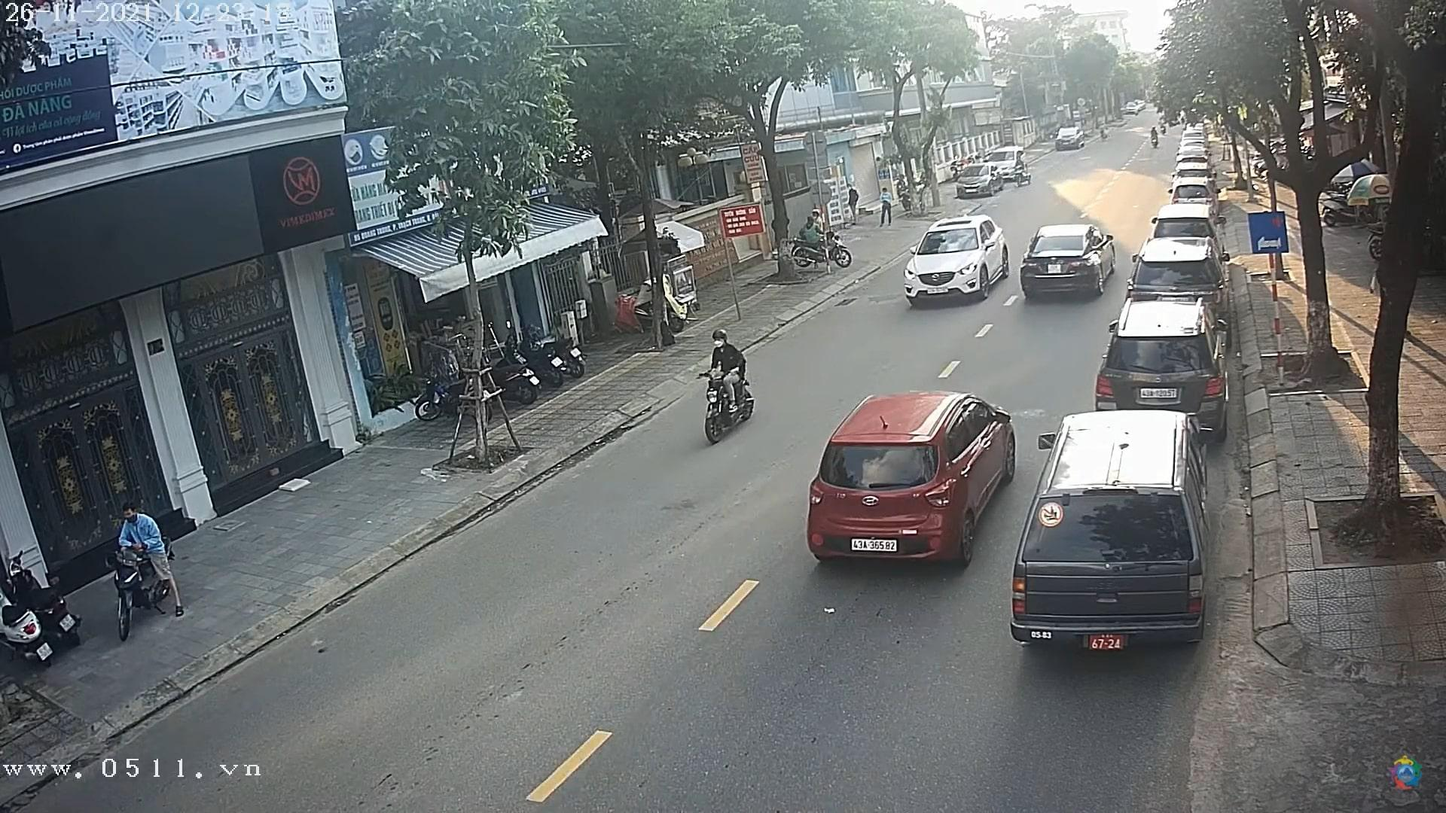car: (902, 216, 1012, 310), (957, 160, 1009, 198), (1055, 124, 1088, 149)
motorbike: (106, 534, 175, 642), (691, 330, 757, 440)
